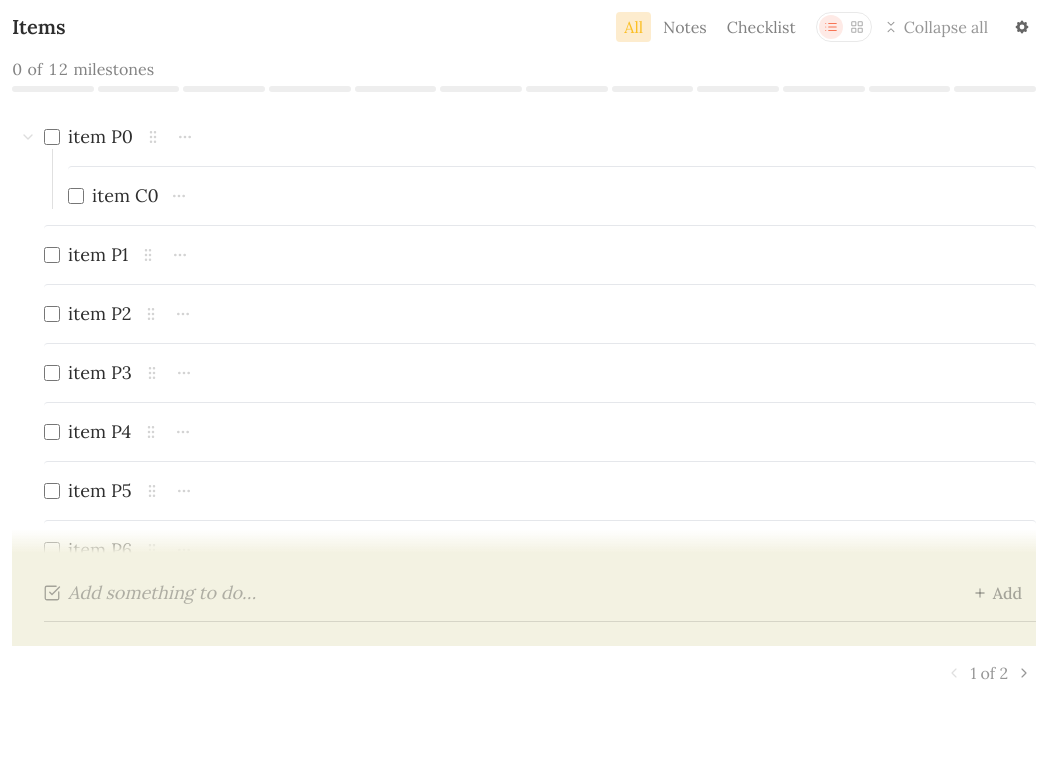
Todo collapse all across pages (FS-0008 R23–R24) › should fold only this page when collapse all is used
The image size is (1048, 780).
Expected: the text "item P0" is shown, [68,124,133,150]
Click the button named "Next page" at (1024, 673), box [1016,665,1032,681]
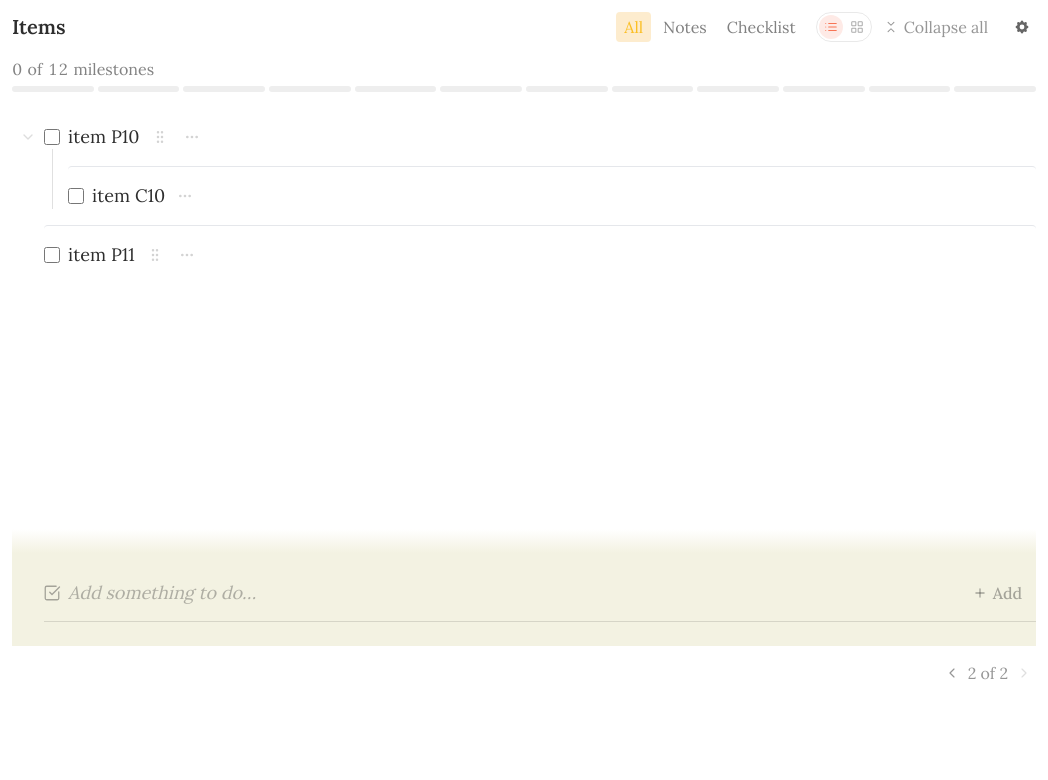
Click the button "Collapse all" at (936, 27), box [884,16,988,38]
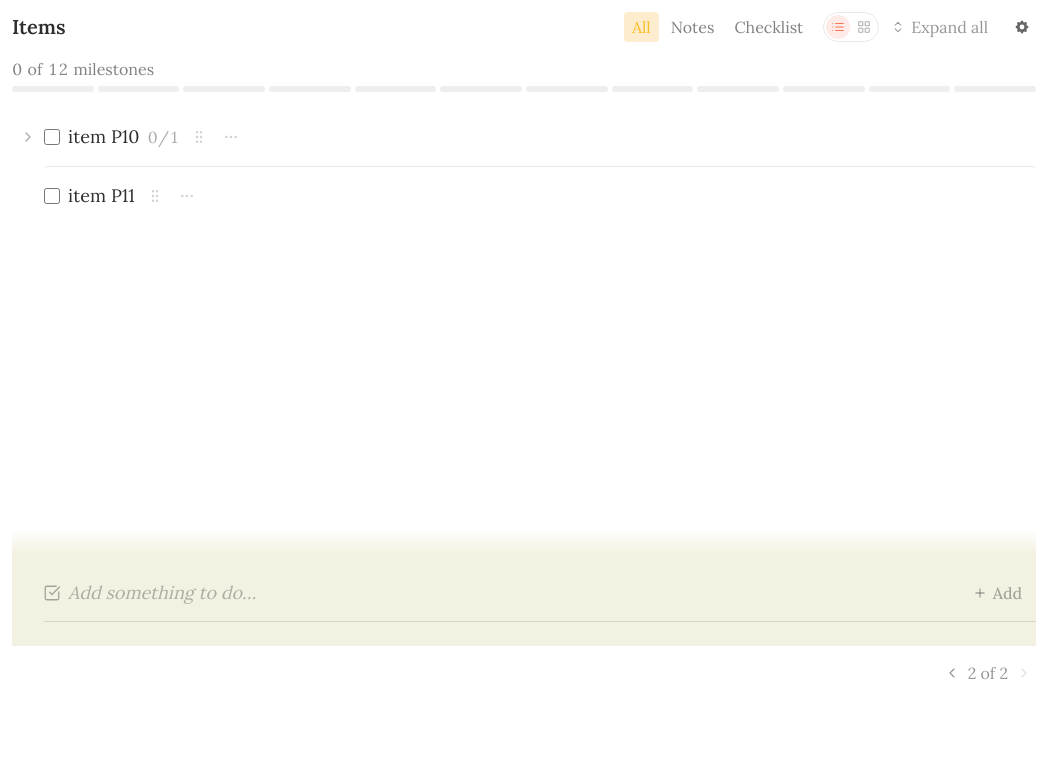
Expected: the text "item C10" is gone
Click the button named "Previous page" at (952, 673), box [944,665,960,681]
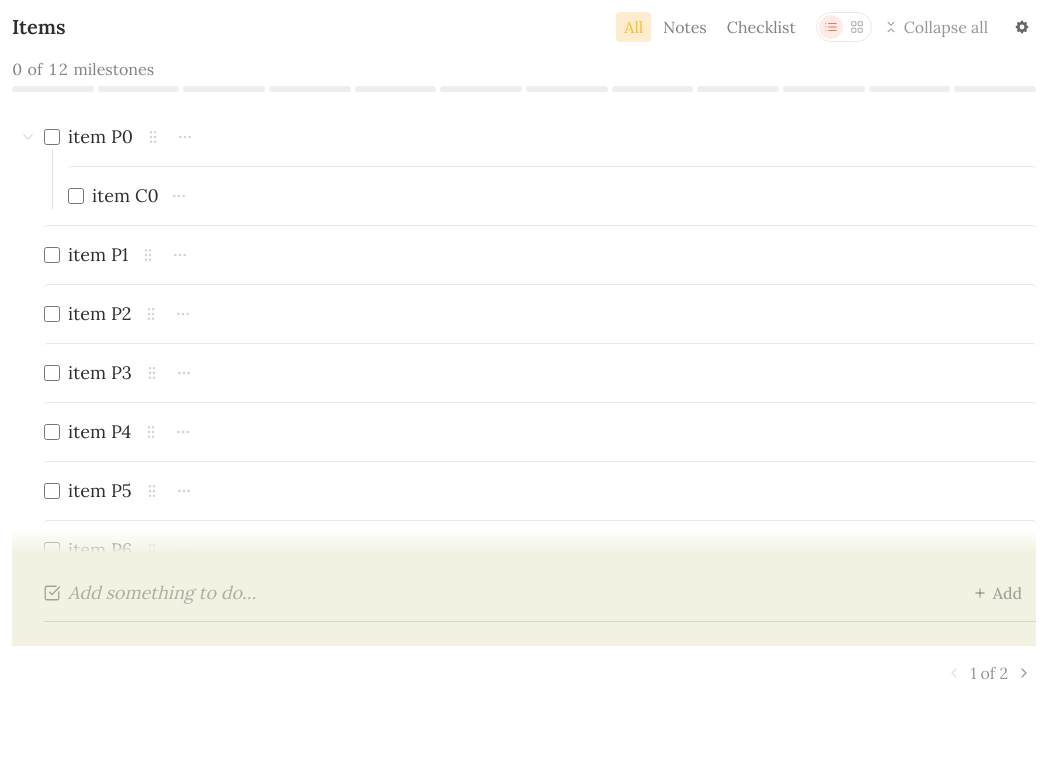
Expected: the text "item C0" is shown, [92,183,159,209]
Expected: the button "Collapse all" is shown, [884,16,988,38]
